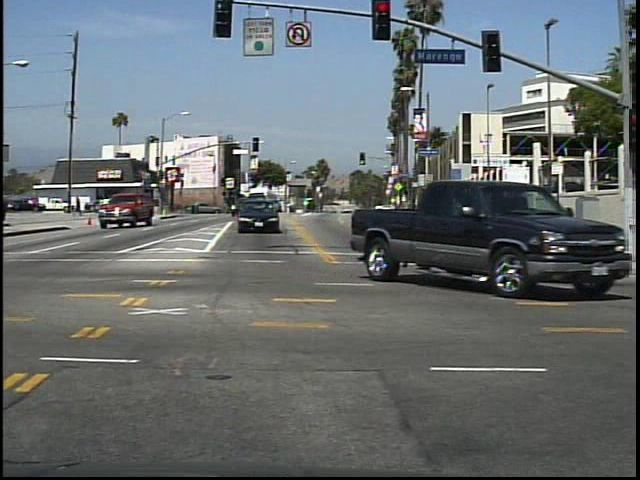person: (73, 195, 86, 219)
